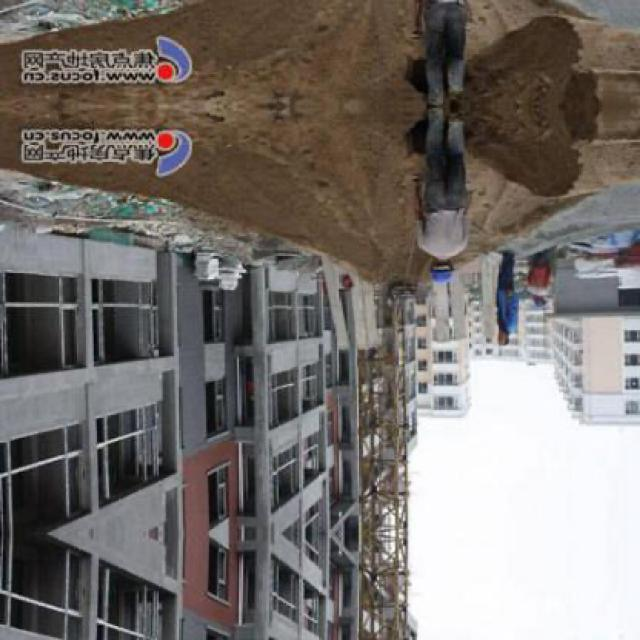con casco: (422, 240, 470, 294)
